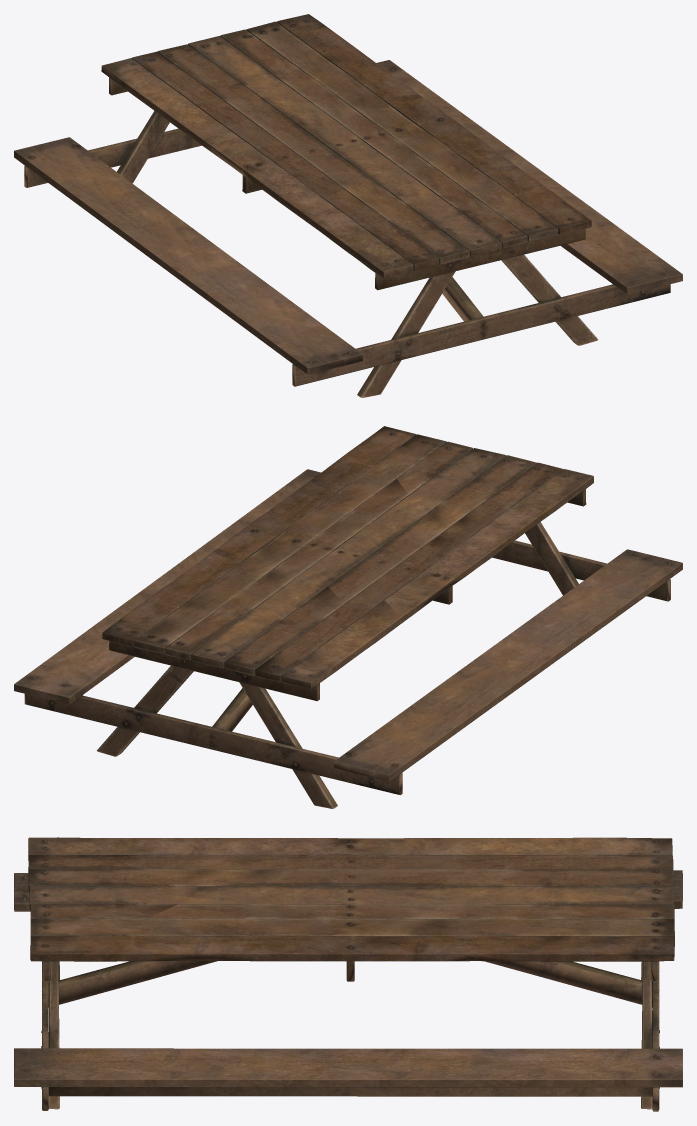
File: picnic.glb
The picture shows the model from 3 angles, top to bottom: view 1: azimuth 30°, elevation 25°; view 2: azimuth 150°, elevation 25°; view 3: azimuth 270°, elevation 25°; orthographic projection. The views are drawn at different scales.
Visible parts, largest first — view 1: wooden_picnic_table; view 2: wooden_picnic_table; view 3: wooden_picnic_table.
Boxes of the visible parts, x1,y1,x2,y2 form: wooden_picnic_table: (14,14,682,397); wooden_picnic_table: (14,426,682,808); wooden_picnic_table: (14,837,682,1111).
Size of the model in its own units: 2.24 by 0.746 by 3.02.
Materials: 2 (2 with a texture image).
